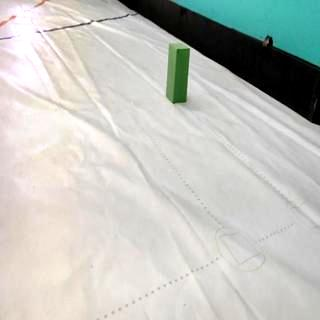greenbox: (164, 42, 190, 104)
